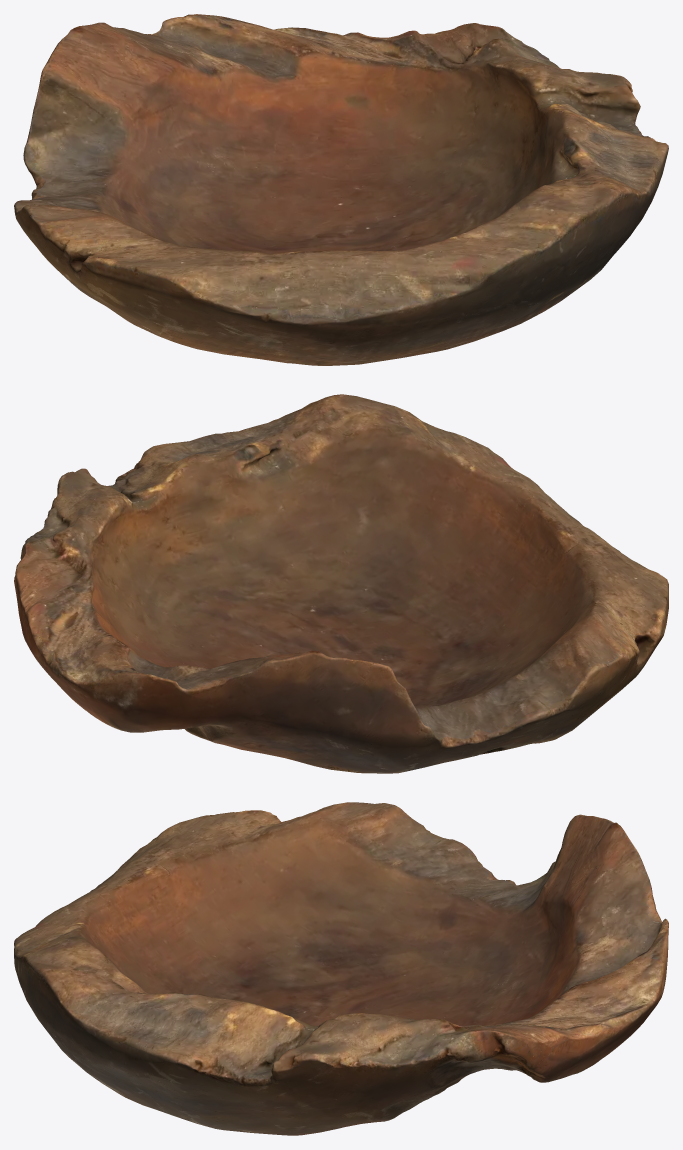
The model's file is wooden_bowl_01.glb.
3 renders of one model, top to bottom at view 1: azimuth 30°, elevation 25°; view 2: azimuth 150°, elevation 25°; view 3: azimuth 270°, elevation 25°, orthographic. The views are drawn at different scales.
Visible parts, largest first — view 1: wooden_bowl_01; view 2: wooden_bowl_01; view 3: wooden_bowl_01.
Boxes of the visible parts, <box> form: wooden_bowl_01: <box>14,14,668,365</box>; wooden_bowl_01: <box>14,394,668,773</box>; wooden_bowl_01: <box>14,802,668,1135</box>.
Size of the model in its own units: 0.3131 by 0.0937 by 0.3091.
Materials: 1 (1 with a texture image).
